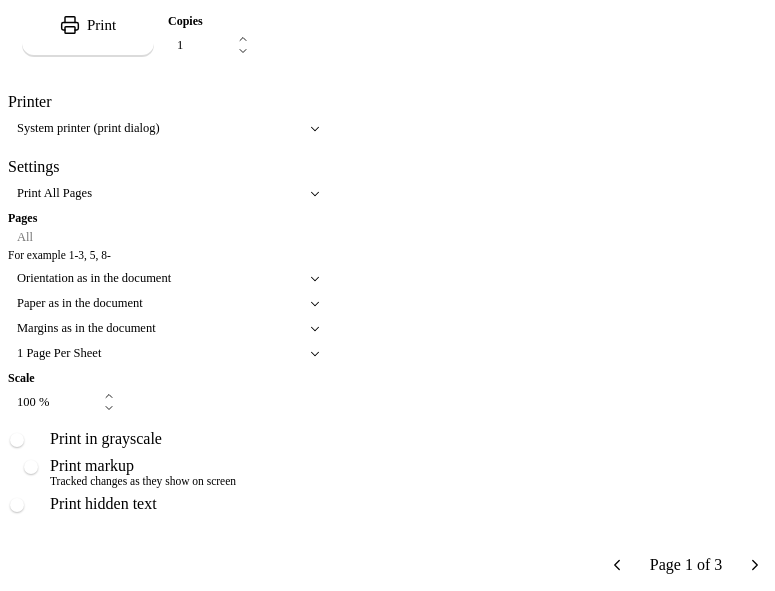
PrintPane › shows what the core says about a page box it cannot read
The width and height of the screenshot is (775, 591).
Expected: the text with test id "print-sheet" reads "Page 1 of 3", left=650, top=556, right=722, bottom=573
Type "x" into the field with test id "print-pages". click: (168, 238)
box: left=8, top=230, right=328, bottom=245
Then press Enter
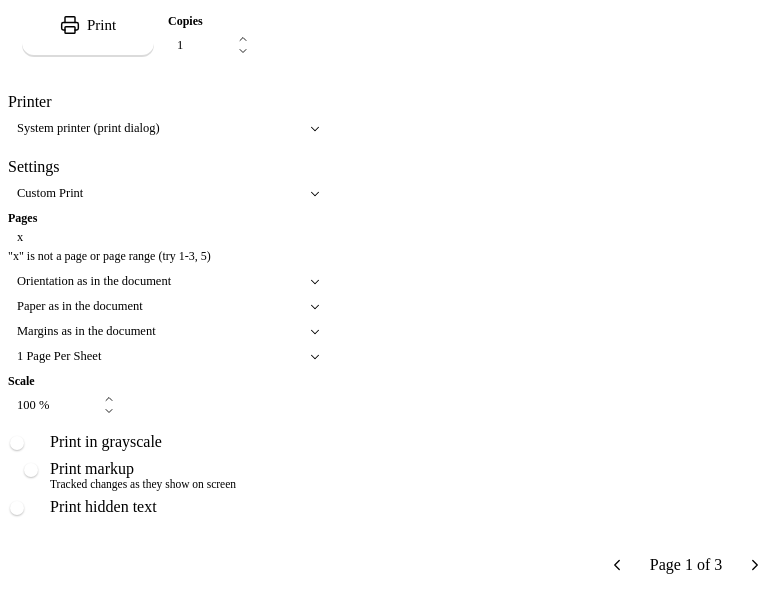
Now the message shows "not a page or page range", box left=8, top=249, right=211, bottom=263
